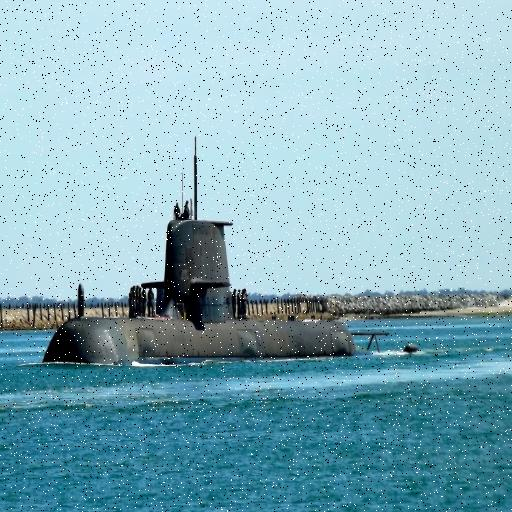submarine: (36, 133, 416, 366)
